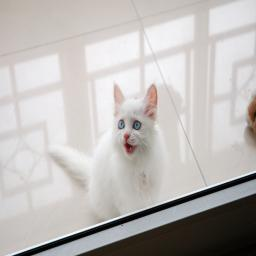catnose: (124, 132, 132, 142)
